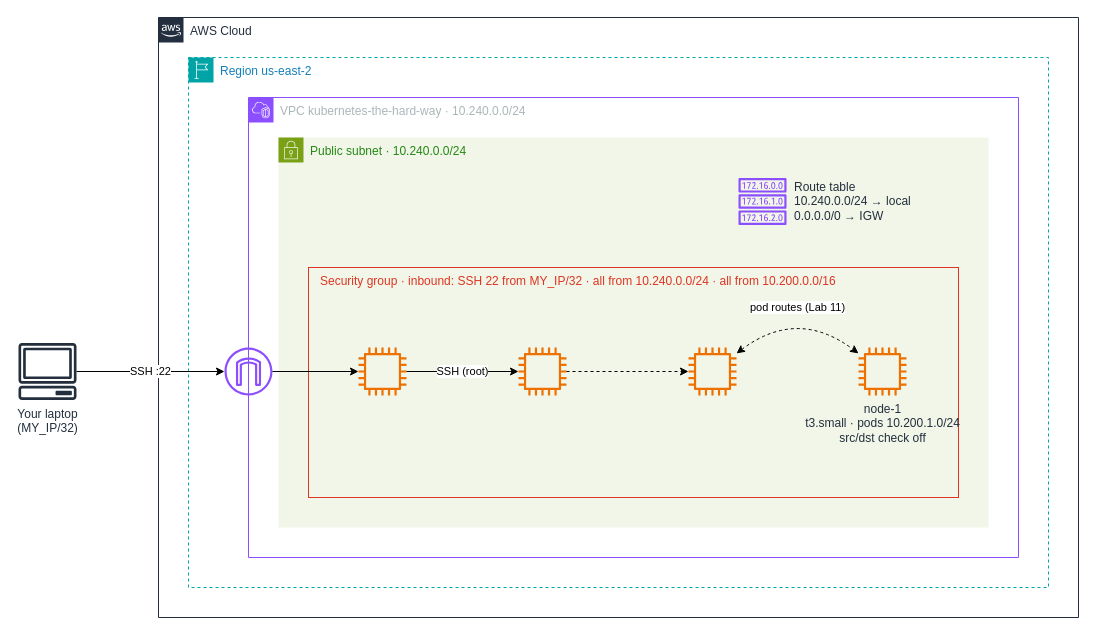
This 1096x635 diagram has some shape labels left out. Here are the shapes that lost their labels. From the top down, the centre of each, then its label:
[248,371]: Internet gateway
[382,371]: jumpbox t3.micro
[542,371]: server t3.small · control plane src/dst check off
[712,371]: node-0 t3.small · pods 10.200.0.0/24 src/dst check off
